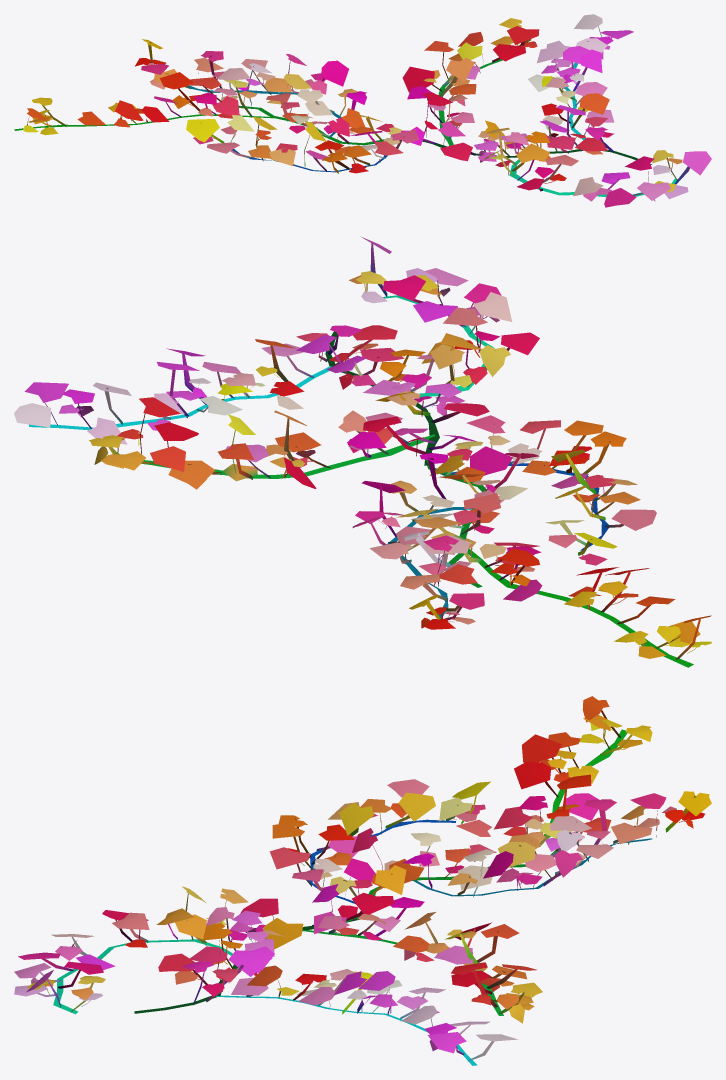
File: English_Ivy_xfcnebhqx_Mid_xfcnebhqx_VarA_LOD1.fbx
The picture shows the model from 3 angles, top to bottom: view 1: azimuth 30°, elevation 25°; view 2: azimuth 150°, elevation 25°; view 3: azimuth 270°, elevation 25°; orthographic projection. The views are drawn at different scales.
Parts seen in each view (by area): view 1: _3v0b_VarA_LOD3; view 2: _3v0b_VarA_LOD3; view 3: _3v0b_VarA_LOD3.
Boxes of the visible parts, x1,y1,x2,y2 form: _3v0b_VarA_LOD3: (14, 14, 711, 207); _3v0b_VarA_LOD3: (14, 237, 711, 667); _3v0b_VarA_LOD3: (14, 696, 711, 1065).
Size of the model in its own units: 175 by 13.47 by 150.
